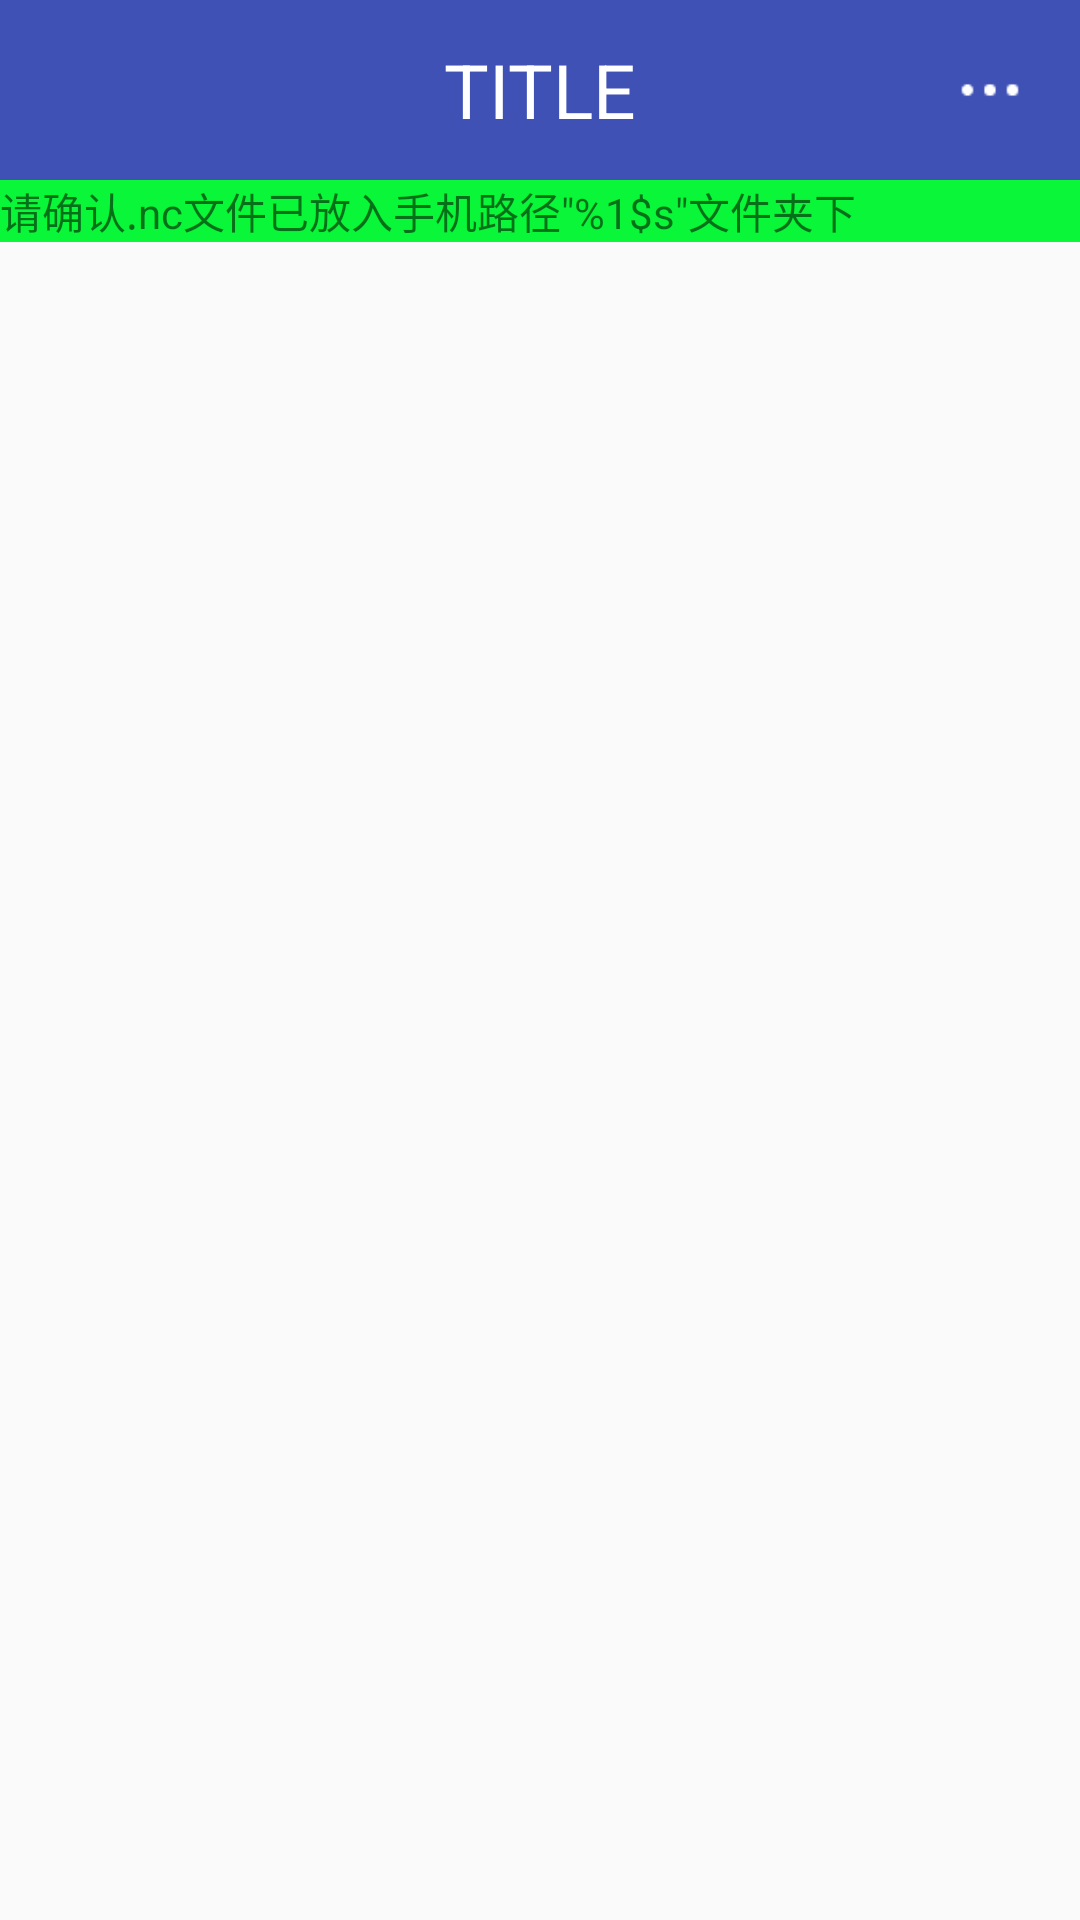

Screen size 1080×1920. Icon name, then its box in pixels as (x1, y1, x2, y2):
more: (961, 84, 1019, 96)
